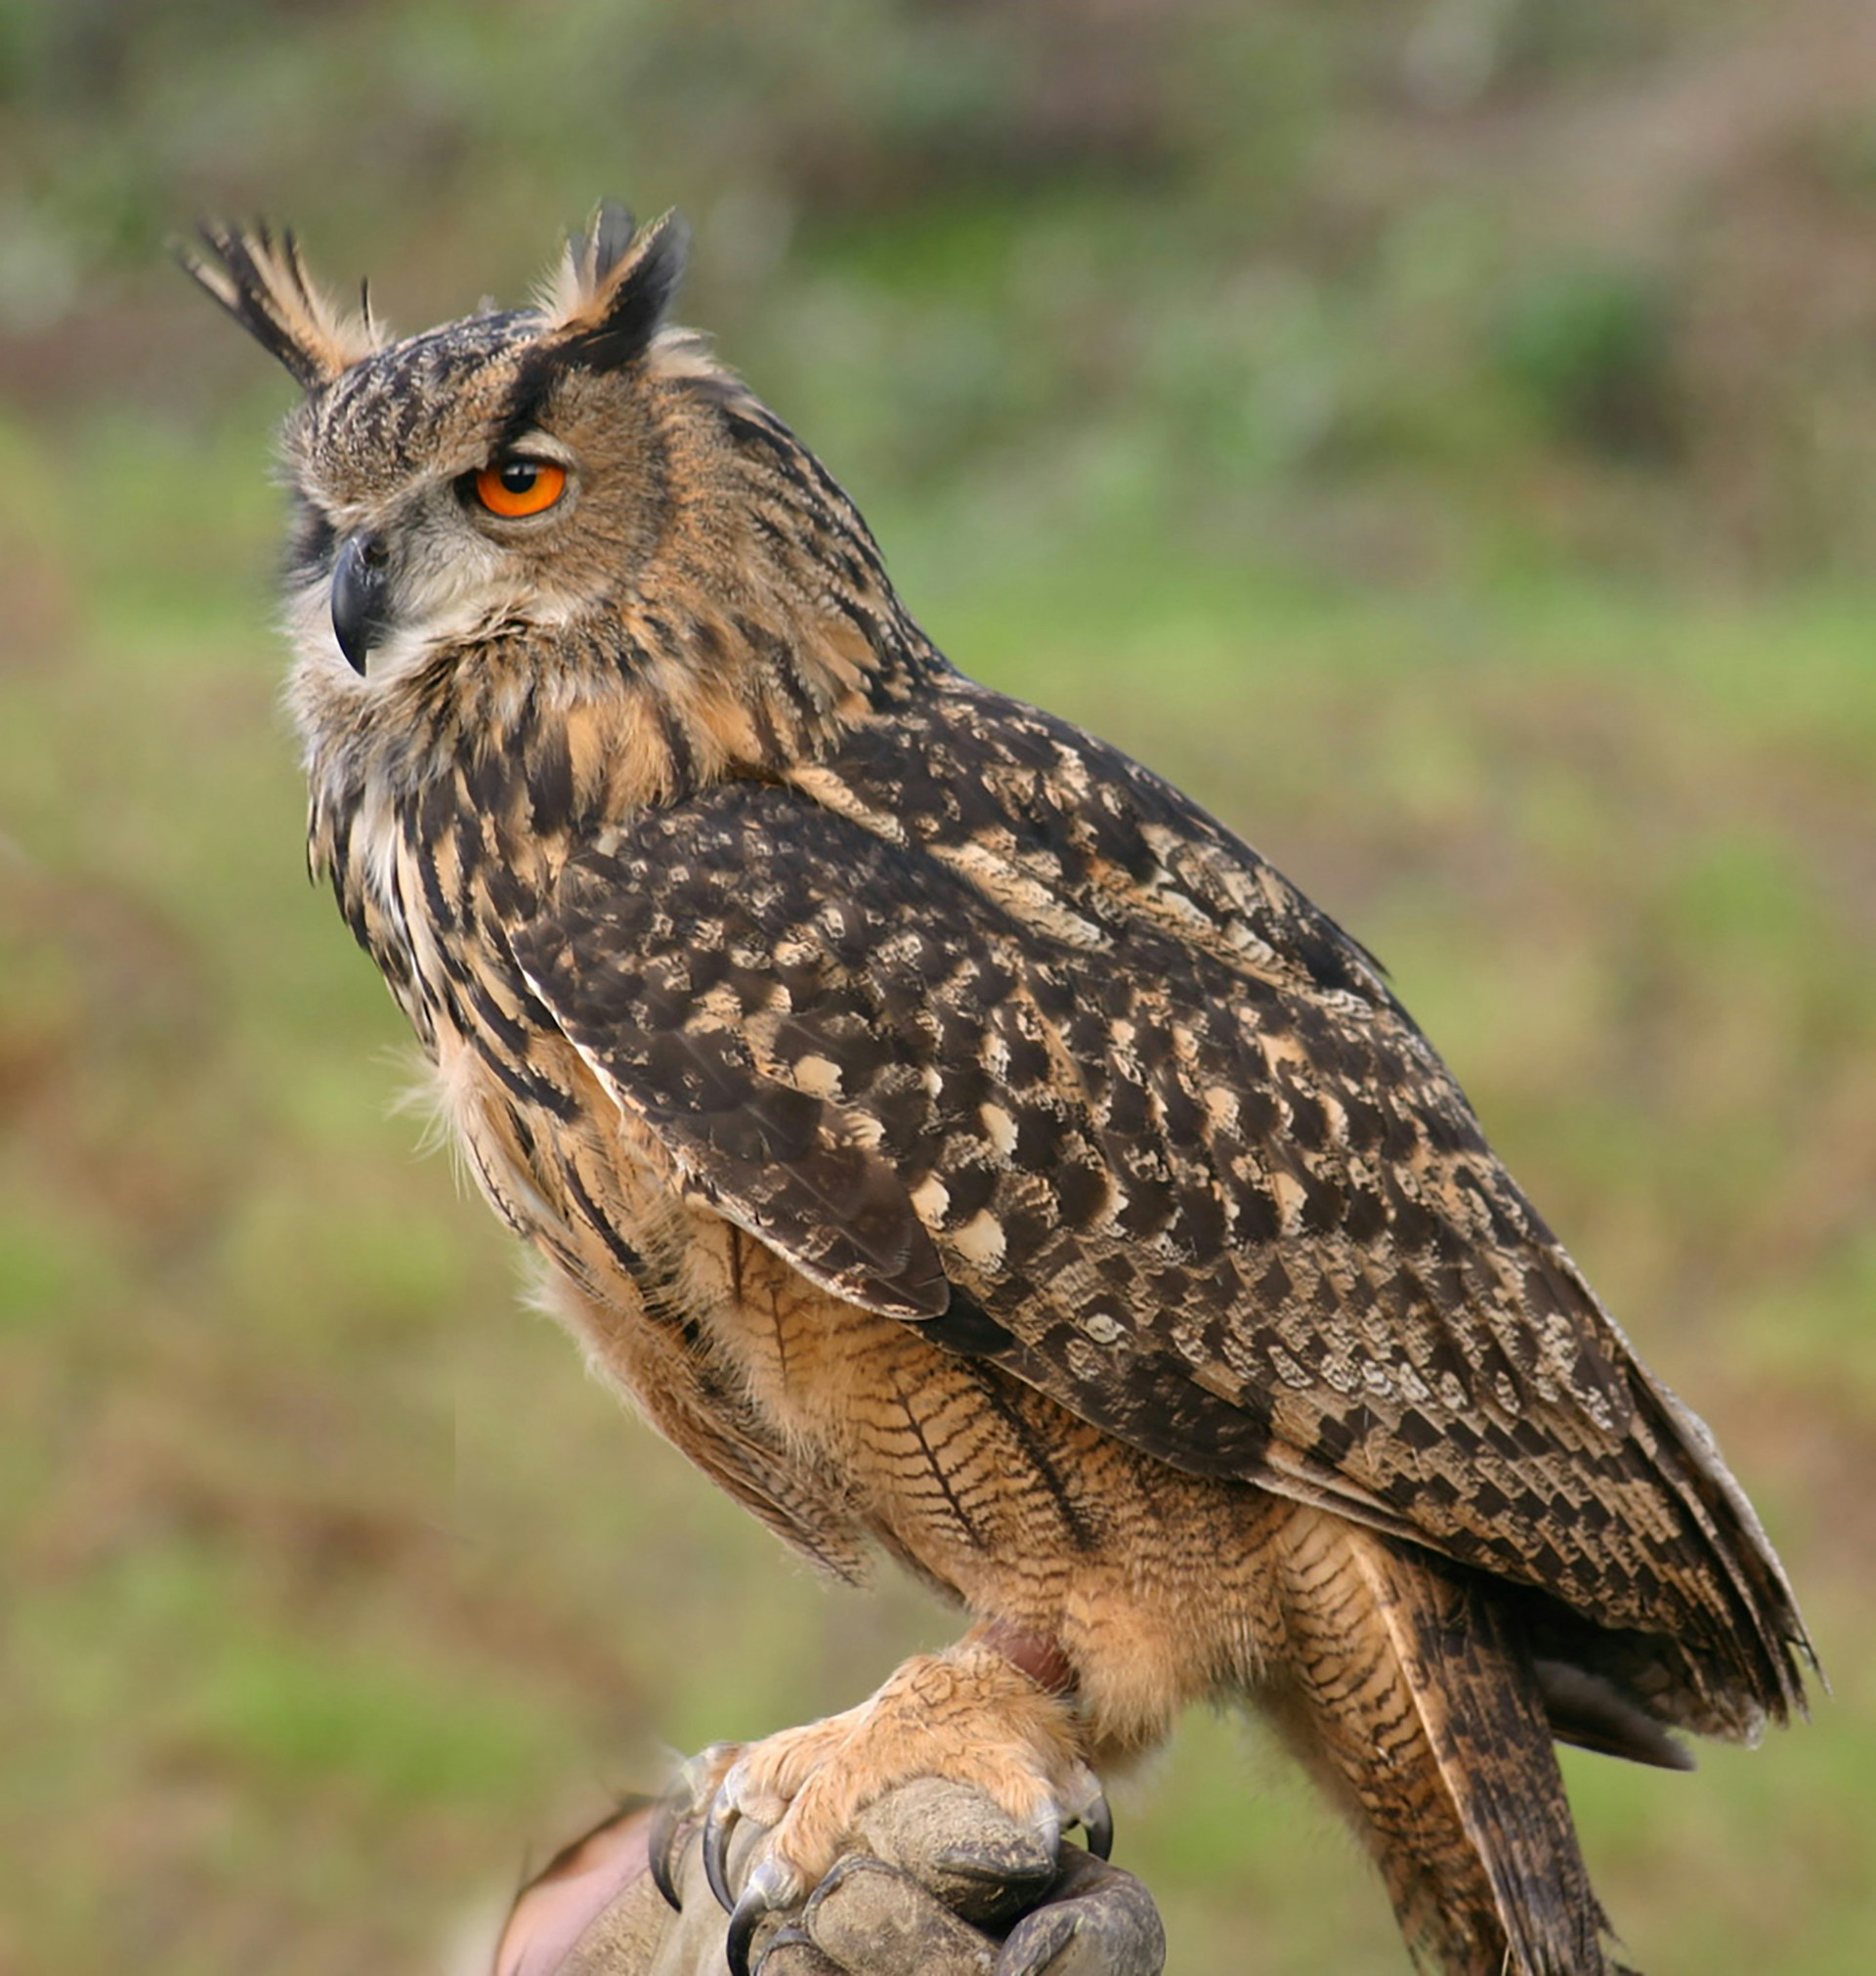owl: (148, 196, 1853, 1976)
